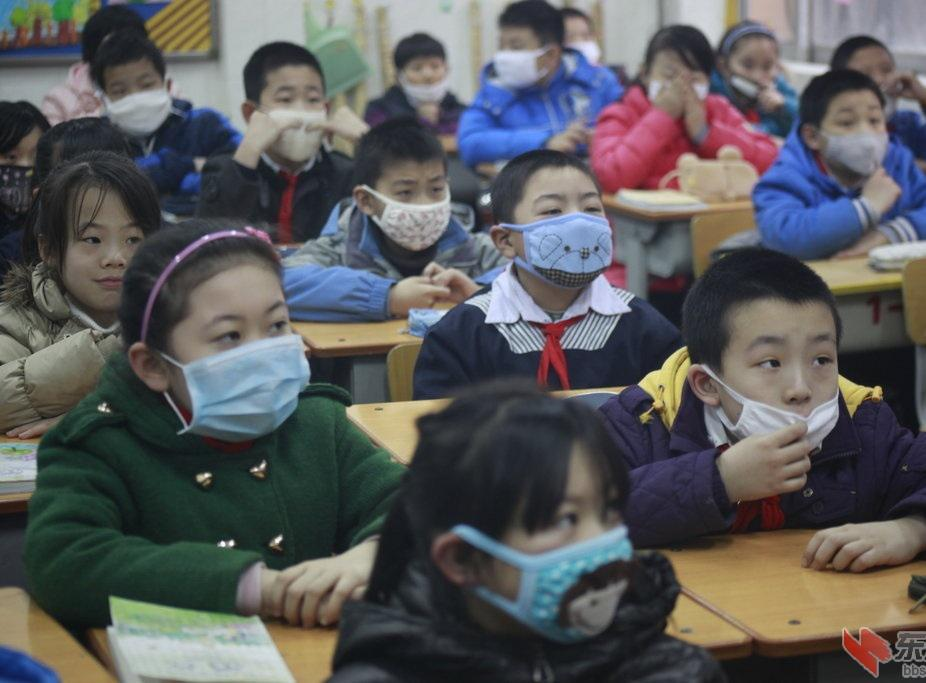NONE: (58, 221, 151, 311)
OK: (475, 489, 628, 641), (183, 304, 313, 434), (513, 189, 613, 286), (822, 101, 889, 181), (257, 86, 330, 159), (105, 64, 175, 134), (1, 141, 53, 218), (647, 59, 706, 118), (493, 31, 553, 89)
WRONG: (717, 328, 839, 456), (368, 169, 450, 249), (723, 48, 776, 101), (400, 58, 451, 109)
